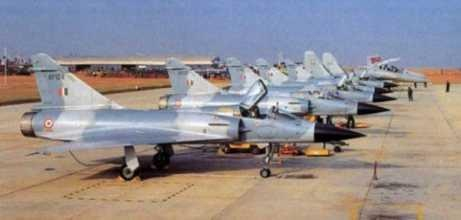airplane: (12, 64, 361, 149), (150, 56, 380, 116), (219, 54, 397, 102), (255, 49, 394, 95), (362, 51, 438, 84)
